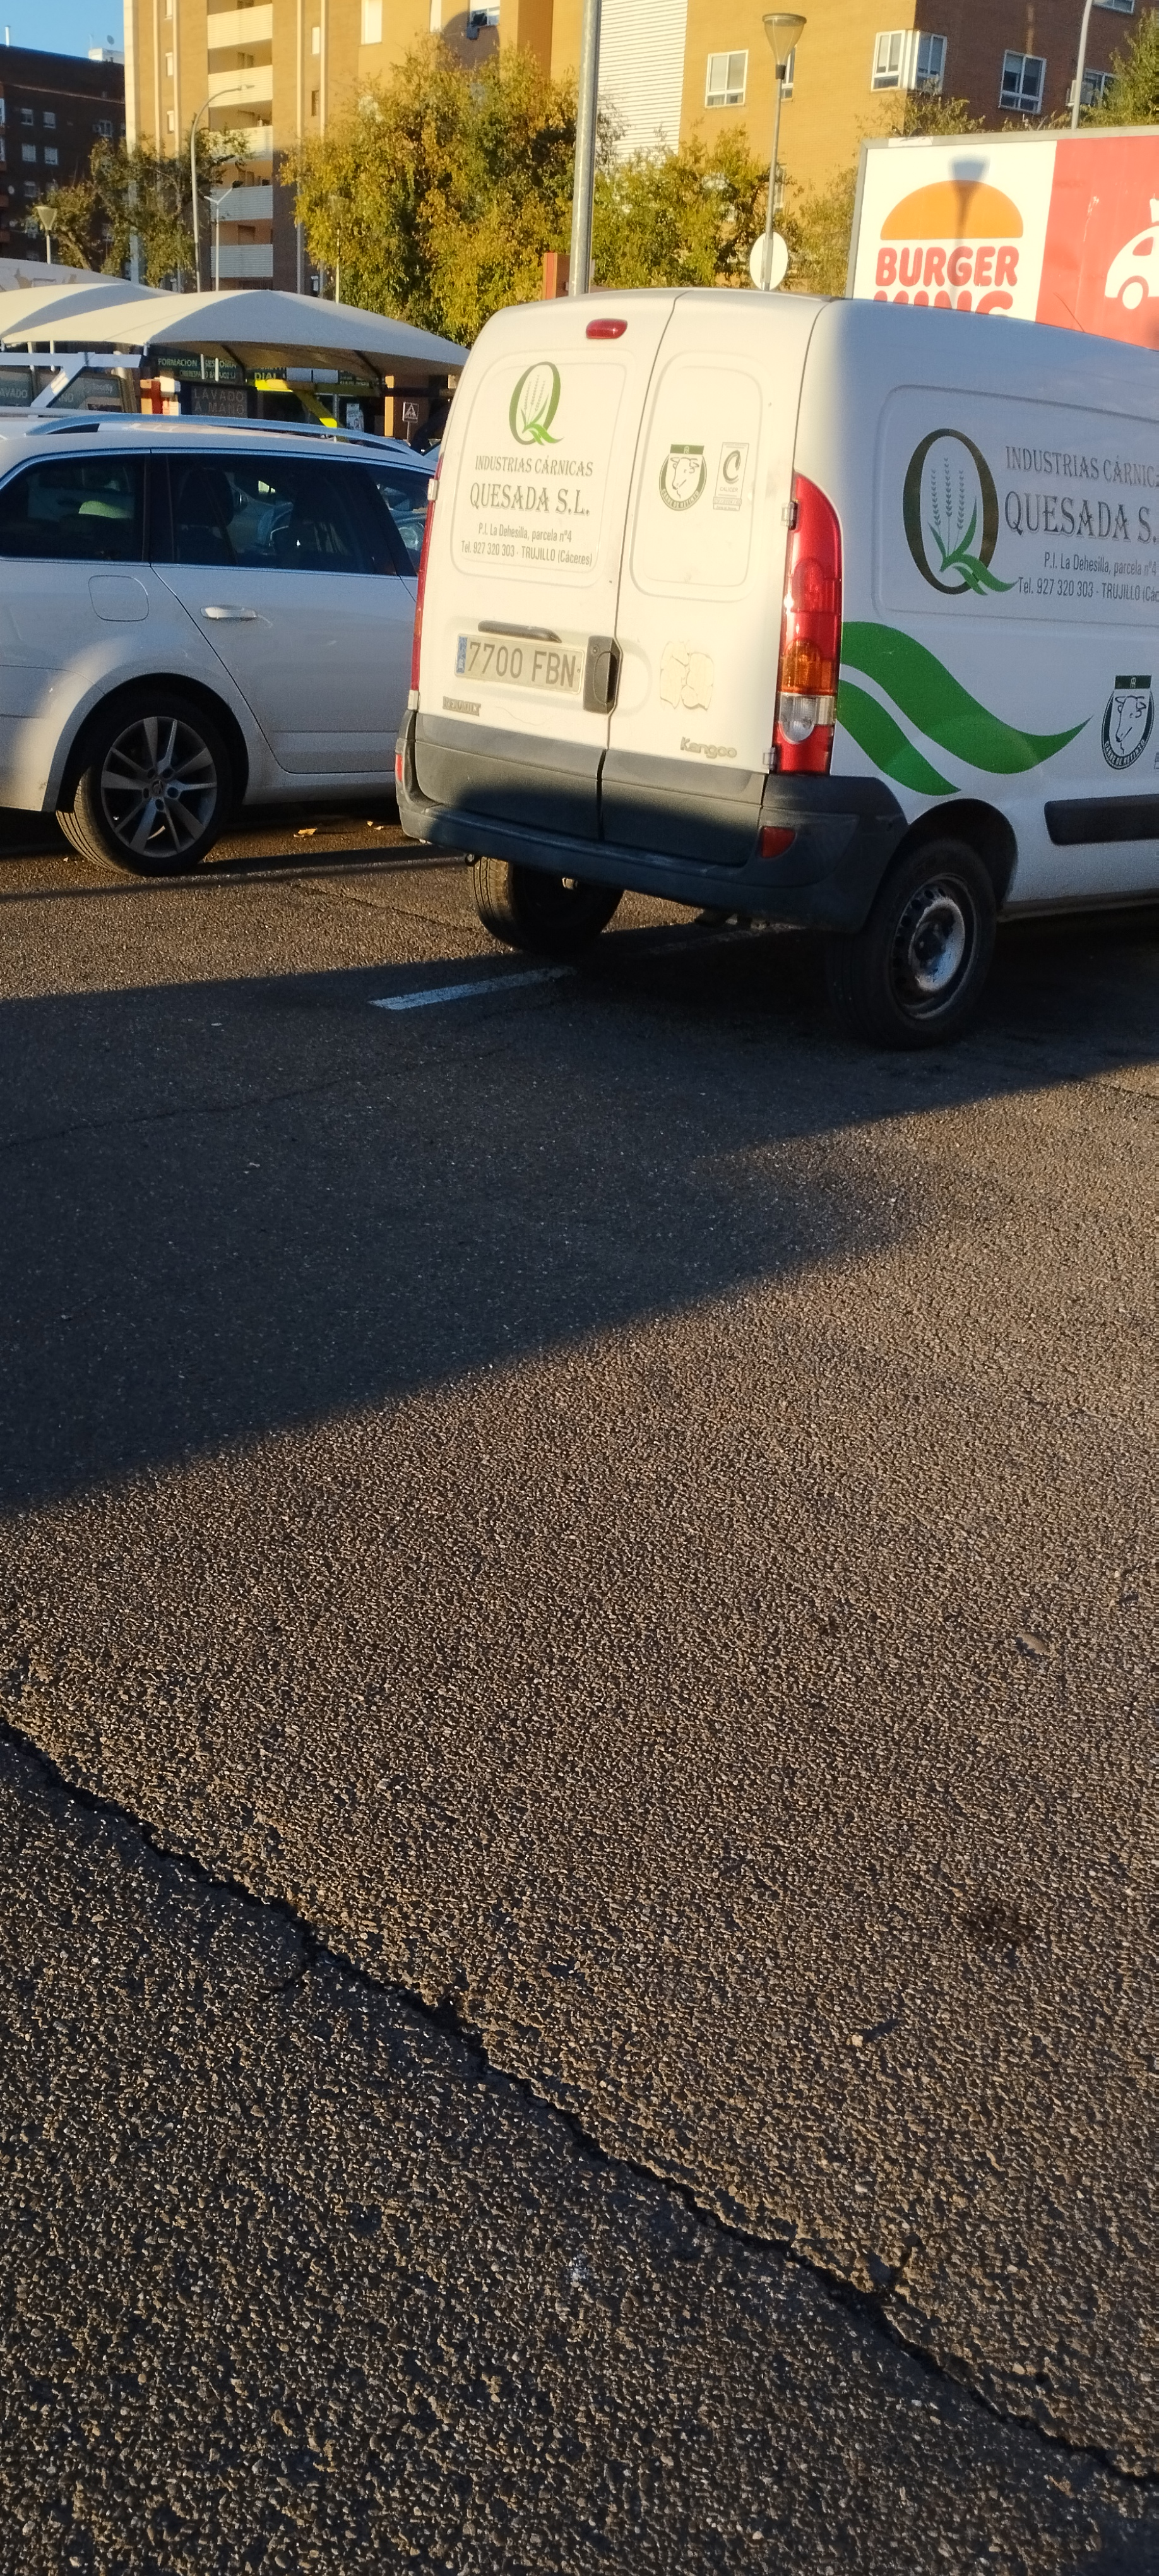Car: (409, 294, 1158, 991)
Plate: (458, 624, 593, 677)
